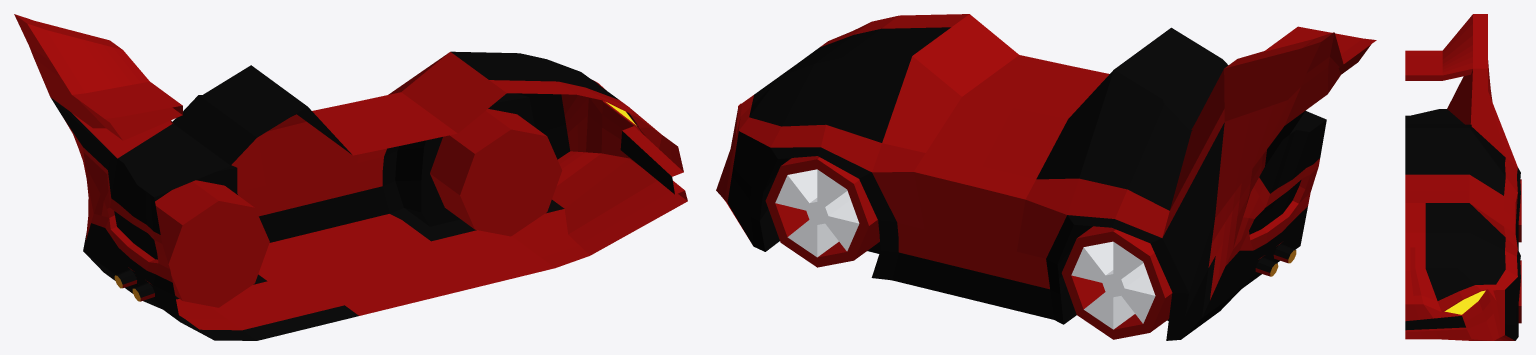
The model's file is coche.glb.
3 views of the same model, side by side, from view 1: azimuth 30°, elevation 25°; view 2: azimuth 150°, elevation 25°; view 3: azimuth 270°, elevation 25° (orthographic). The views are drawn at different scales.
Parts seen in each view (by area): view 1: Cube; view 2: Cube; view 3: Cube.
Boxes of the visible parts, x1,y1,x2,y2 form: Cube: (14,14,687,340); Cube: (716,14,1376,340); Cube: (1405,14,1521,340).
Size of the model in its own units: 2.96 by 1.49 by 0.8768.
